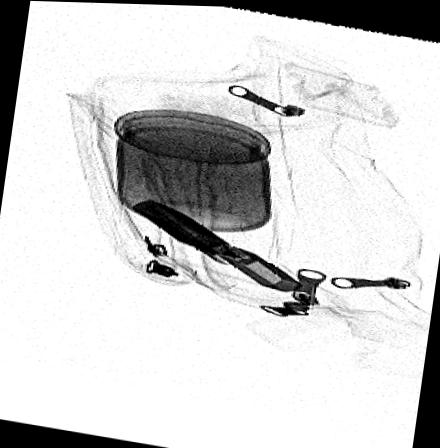Lighter: (130, 197, 304, 290)
